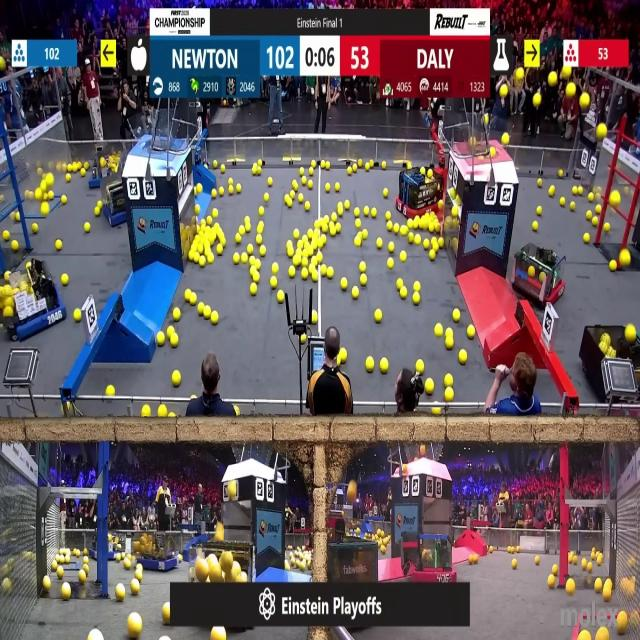ball_airborne: (481, 114, 496, 134), (346, 481, 356, 503), (620, 248, 631, 267), (580, 93, 591, 111), (626, 324, 637, 341), (229, 481, 238, 501), (215, 524, 224, 542), (566, 84, 576, 100), (609, 190, 619, 206), (597, 122, 607, 138), (549, 71, 558, 87), (468, 135, 477, 150), (525, 57, 537, 68), (562, 66, 571, 79), (516, 68, 525, 80), (533, 95, 540, 107), (500, 86, 507, 98), (419, 446, 426, 458), (502, 133, 508, 146), (402, 465, 406, 473)
ball_ground: (128, 614, 144, 639), (618, 613, 630, 635), (211, 626, 226, 640), (603, 581, 612, 601), (164, 602, 172, 624), (62, 584, 72, 601), (114, 585, 124, 602), (596, 627, 608, 640), (566, 579, 575, 596), (165, 324, 175, 339), (339, 349, 349, 363), (90, 630, 104, 640), (548, 576, 558, 590), (78, 586, 88, 600), (365, 356, 373, 372), (172, 372, 181, 386), (445, 387, 454, 401), (43, 575, 51, 590), (426, 379, 434, 394), (135, 565, 143, 580), (546, 574, 555, 587), (252, 270, 261, 283), (416, 359, 424, 373), (132, 581, 140, 595), (78, 568, 86, 582), (446, 337, 454, 351), (233, 564, 240, 580), (107, 385, 116, 397), (170, 335, 179, 347), (445, 375, 453, 388), (434, 323, 442, 336), (459, 351, 467, 364), (595, 577, 603, 590), (580, 631, 591, 640), (376, 309, 383, 323), (381, 358, 388, 372), (311, 311, 318, 325), (158, 334, 166, 346), (211, 312, 219, 324), (142, 406, 150, 418), (190, 294, 198, 306), (160, 406, 168, 418), (596, 554, 604, 566), (288, 266, 295, 279), (184, 289, 191, 302), (303, 255, 310, 268), (287, 241, 293, 256), (569, 553, 577, 564), (546, 185, 554, 196), (244, 216, 252, 227), (41, 176, 49, 187), (173, 308, 180, 320), (74, 310, 81, 322), (203, 306, 210, 318), (289, 188, 296, 200), (352, 286, 359, 298), (388, 242, 395, 254), (217, 232, 224, 244), (341, 279, 349, 289), (549, 185, 557, 195), (240, 572, 248, 582), (292, 255, 300, 265), (122, 559, 130, 569), (214, 224, 222, 234), (42, 202, 48, 215), (62, 275, 69, 286), (453, 310, 460, 321), (326, 268, 333, 279), (467, 326, 474, 337), (409, 218, 416, 229), (271, 276, 277, 288), (278, 290, 284, 302), (273, 264, 279, 276), (258, 246, 266, 255), (3, 232, 11, 241), (196, 185, 204, 194), (97, 198, 103, 210), (338, 202, 344, 214), (415, 234, 421, 246), (125, 560, 134, 568), (249, 255, 257, 264), (329, 223, 335, 235), (65, 552, 71, 564), (594, 558, 603, 566), (250, 284, 257, 294), (609, 262, 616, 272), (399, 251, 406, 261), (414, 282, 421, 292), (414, 292, 421, 302), (429, 250, 436, 260), (377, 240, 384, 250), (286, 198, 293, 208), (11, 241, 18, 251), (430, 239, 437, 249), (193, 252, 200, 262), (291, 180, 298, 190), (399, 225, 406, 235), (593, 552, 600, 562), (323, 214, 330, 224), (188, 251, 195, 261), (360, 263, 366, 274), (360, 275, 366, 286), (388, 257, 394, 268), (46, 174, 52, 185), (319, 266, 325, 277), (408, 231, 414, 242), (315, 218, 321, 229), (322, 220, 328, 231), (298, 336, 306, 344), (83, 222, 90, 231), (60, 194, 67, 203), (469, 555, 476, 564), (206, 216, 213, 225), (432, 407, 439, 416), (304, 240, 311, 249), (226, 185, 233, 194), (400, 288, 406, 298), (257, 220, 263, 230), (303, 269, 309, 279), (587, 210, 593, 220), (32, 222, 38, 232), (256, 235, 262, 245), (57, 240, 63, 250), (248, 244, 254, 254), (320, 236, 325, 248), (355, 218, 361, 228), (423, 240, 429, 250), (200, 256, 206, 266), (432, 221, 438, 231), (329, 228, 335, 238), (394, 223, 400, 233), (73, 163, 79, 173), (66, 163, 72, 173), (312, 266, 318, 276), (446, 328, 454, 335), (251, 167, 258, 175), (324, 183, 331, 191), (322, 162, 329, 170), (211, 209, 218, 217), (382, 162, 389, 170), (134, 577, 142, 584), (395, 280, 402, 288), (452, 208, 459, 216), (294, 247, 301, 255), (586, 560, 591, 571), (560, 198, 566, 207), (13, 212, 19, 221), (532, 221, 538, 230), (236, 235, 242, 244), (571, 185, 577, 194), (82, 559, 88, 568), (240, 224, 246, 233), (308, 179, 314, 188), (36, 189, 42, 198), (296, 241, 302, 250), (306, 246, 312, 255), (585, 234, 590, 244), (234, 253, 239, 263), (59, 567, 64, 577), (553, 564, 558, 574), (425, 220, 430, 230), (595, 185, 602, 192), (268, 177, 274, 185), (66, 174, 72, 182), (386, 211, 392, 219), (355, 238, 361, 246), (604, 222, 610, 230), (387, 222, 393, 230), (298, 168, 304, 176), (588, 192, 594, 200), (506, 544, 512, 552), (366, 162, 372, 170), (370, 208, 376, 216), (208, 254, 214, 262), (293, 232, 299, 240), (236, 184, 242, 192), (242, 254, 248, 262), (312, 272, 318, 280), (311, 162, 317, 170), (307, 228, 313, 236), (596, 207, 602, 215), (363, 208, 369, 216), (330, 213, 336, 221), (408, 162, 414, 170), (212, 162, 218, 170), (74, 550, 80, 558), (200, 217, 206, 225), (314, 228, 320, 236), (358, 162, 364, 170), (570, 202, 575, 211), (535, 556, 540, 565), (217, 244, 222, 253), (355, 208, 360, 217), (337, 223, 342, 232), (345, 201, 350, 210), (219, 187, 224, 196), (439, 238, 444, 247), (336, 183, 342, 190), (594, 217, 600, 224), (593, 192, 599, 199), (219, 167, 225, 174), (227, 178, 233, 185), (82, 552, 88, 559), (592, 545, 598, 552), (310, 168, 317, 174), (316, 253, 322, 260), (190, 394, 197, 400), (536, 207, 541, 215), (384, 188, 389, 196), (94, 207, 99, 215), (307, 202, 311, 212), (212, 189, 217, 197), (513, 560, 518, 568), (297, 192, 302, 200), (49, 191, 54, 199), (576, 186, 581, 194), (362, 232, 367, 240), (194, 204, 198, 214), (82, 162, 87, 170), (418, 219, 422, 229), (120, 554, 125, 562), (266, 191, 270, 200), (537, 178, 541, 187), (192, 235, 198, 241), (236, 408, 240, 417), (394, 162, 400, 168), (258, 208, 263, 215), (179, 555, 184, 562), (515, 545, 520, 552), (115, 554, 120, 561), (490, 544, 494, 552), (379, 529, 383, 537), (348, 168, 352, 175), (560, 170, 564, 177), (352, 167, 356, 174), (81, 169, 85, 175)
goal: (125, 115, 188, 151), (460, 114, 514, 156)
robot_blue: (0, 252, 62, 342), (130, 532, 182, 572), (103, 180, 128, 227)
robot_red: (581, 322, 640, 403), (511, 247, 565, 309), (396, 166, 442, 216)
